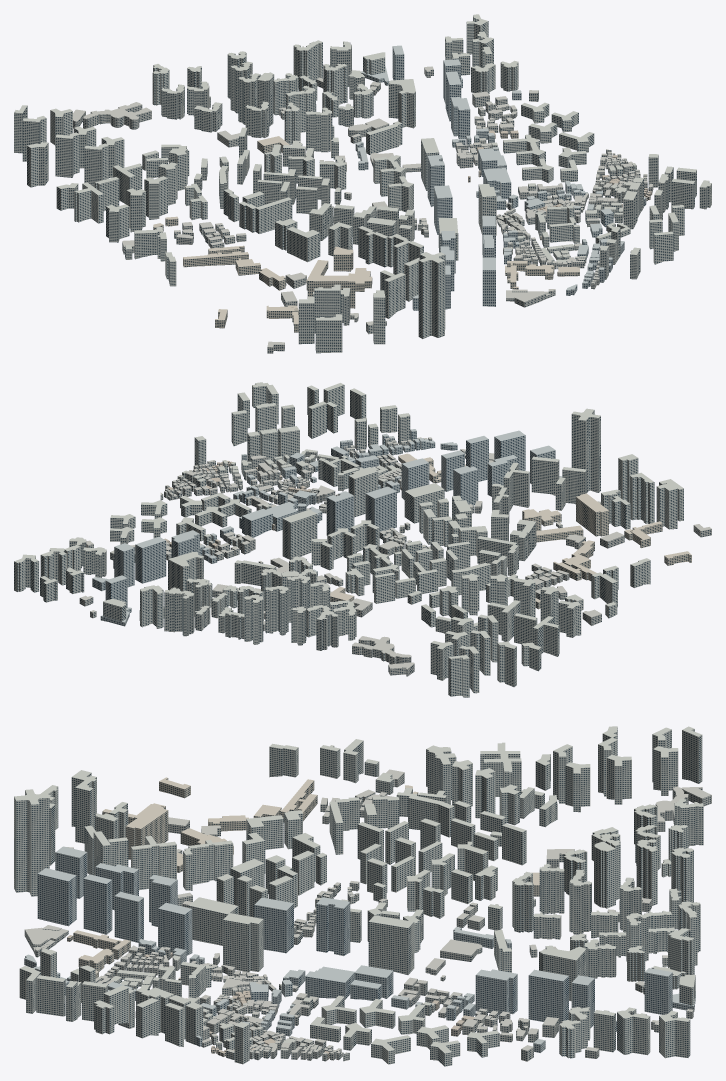
File: city_-6_-1.glb
3 views of the same model, one above another, from view 1: azimuth 30°, elevation 25°; view 2: azimuth 150°, elevation 25°; view 3: azimuth 270°, elevation 25° (orthographic). The views are drawn at different scales.
Size of the model in its own units: 1026 by 155 by 1047.
Materials: 5 (5 with a texture image).
